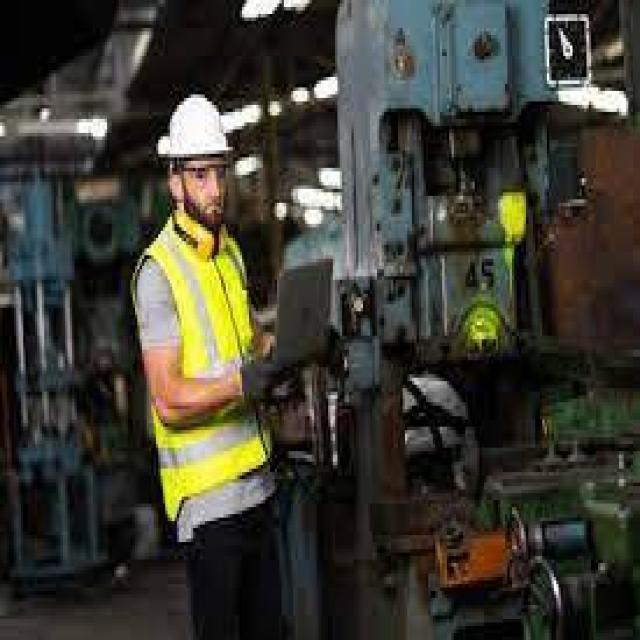safety_helmet: (128, 228, 277, 524)
